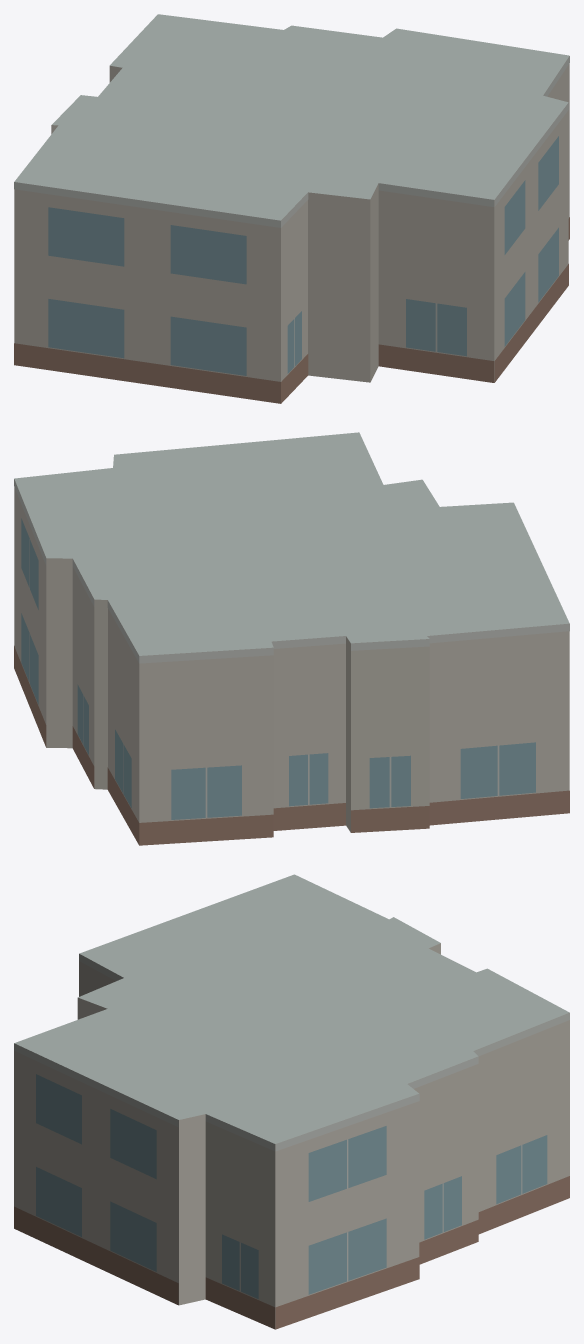
File: survey-upis-32639423.glb
The picture shows the model from 3 angles, top to bottom: view 1: azimuth 30°, elevation 25°; view 2: azimuth 150°, elevation 25°; view 3: azimuth 270°, elevation 25°; orthographic projection. The views are drawn at different scales.
Parts seen in each view (by area): view 1: survey-upis-32639423.tmp; view 2: survey-upis-32639423.tmp; view 3: survey-upis-32639423.tmp.
Boxes of the visible parts, x1,y1,x2,y2 form: survey-upis-32639423.tmp: (14, 14, 569, 403); survey-upis-32639423.tmp: (14, 432, 569, 845); survey-upis-32639423.tmp: (14, 874, 569, 1329).
Size of the model in its own units: 19.04 by 6.1 by 16.58.
